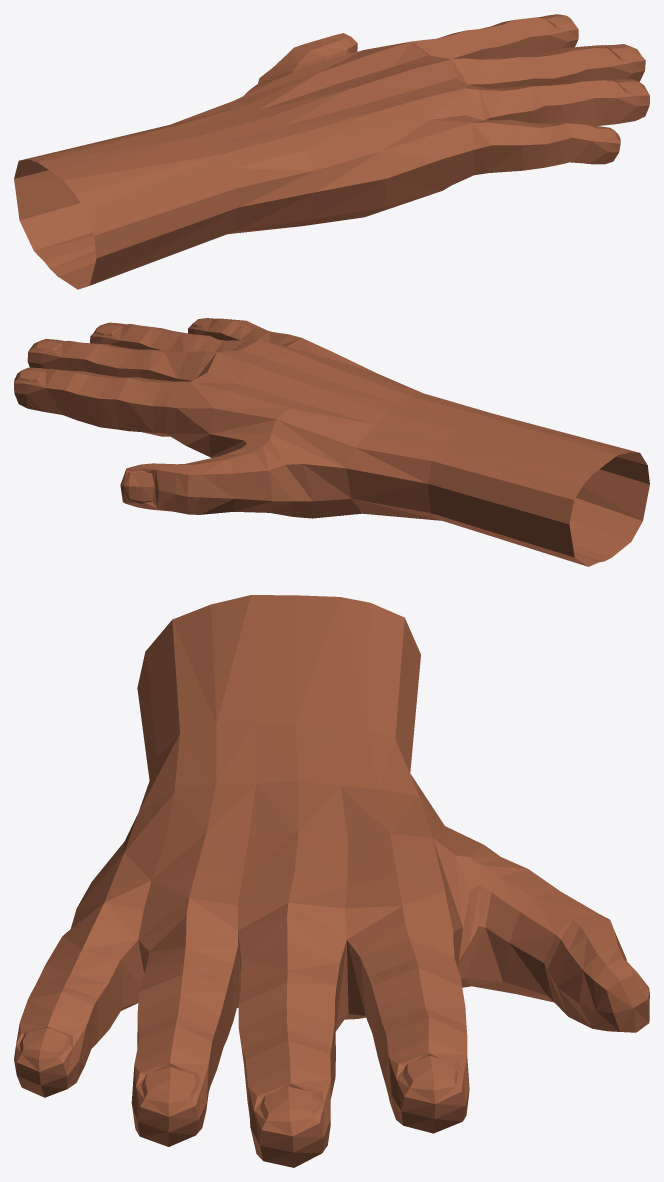
File: hand.FBX
3 renders of one model, top to bottom at view 1: azimuth 30°, elevation 25°; view 2: azimuth 150°, elevation 25°; view 3: azimuth 270°, elevation 25°, orthographic. The views are drawn at different scales.
Visible parts, largest first — view 1: Cube.000; view 2: Cube.000; view 3: Cube.000.
Boxes of the visible parts, <box> form: Cube.000: <box>14,14,649,289</box>; Cube.000: <box>14,318,649,566</box>; Cube.000: <box>14,595,649,1167</box>.
Size of the model in its own units: 0.2575 by 0.0486 by 0.1398.
